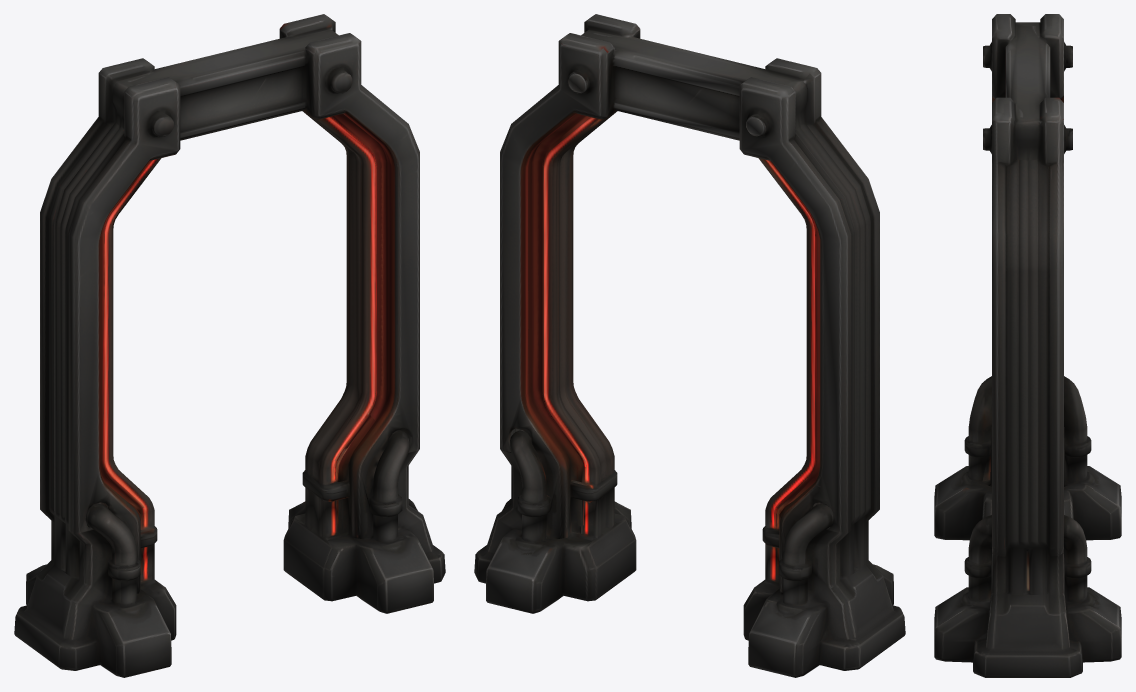
Rendered from VAL_Arch_FINAL.glb.
3 views of the same model, side by side, from view 1: azimuth 30°, elevation 25°; view 2: azimuth 150°, elevation 25°; view 3: azimuth 270°, elevation 25° (orthographic). The views are drawn at different scales.
Parts seen in each view (by area): view 1: material; view 2: material; view 3: material.
Boxes of the visible parts, box(x1,y1,x2,y2) form: material: box(14, 14, 445, 677); material: box(474, 14, 905, 677); material: box(934, 14, 1121, 677).
Size of the model in its own units: 2.27 by 3.1 by 1.
Materials: 1 (1 with a texture image).
